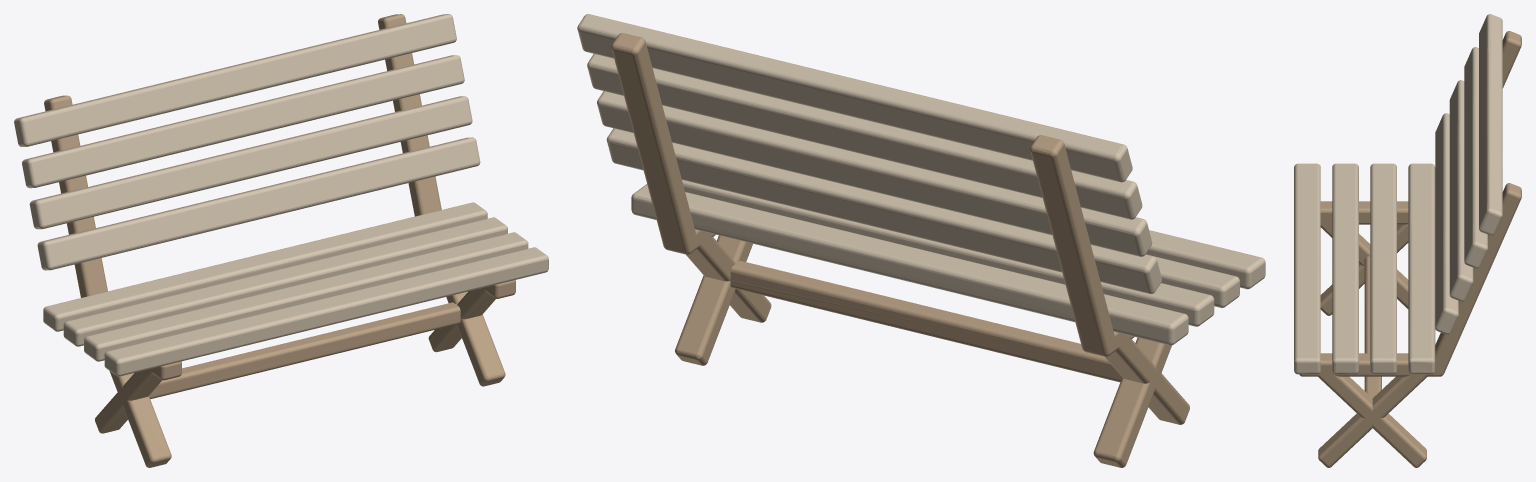
The model's file is bench_1.glb.
3 views of the same model, side by side, from view 1: azimuth 30°, elevation 25°; view 2: azimuth 150°, elevation 25°; view 3: azimuth 270°, elevation 25° (orthographic). The views are drawn at different scales.
Parts seen in each view (by area): view 1: Mesh_Mesh_head_geo.001_lambert2SG.001; view 2: Mesh_Mesh_head_geo.001_lambert2SG.001; view 3: Mesh_Mesh_head_geo.001_lambert2SG.001.
Boxes of the visible parts, box(x1,y1,x2,y2) form: Mesh_Mesh_head_geo.001_lambert2SG.001: box(14, 14, 548, 467); Mesh_Mesh_head_geo.001_lambert2SG.001: box(577, 14, 1265, 467); Mesh_Mesh_head_geo.001_lambert2SG.001: box(1294, 14, 1521, 467).
Size of the model in its own units: 12.5 by 8.07 by 6.
